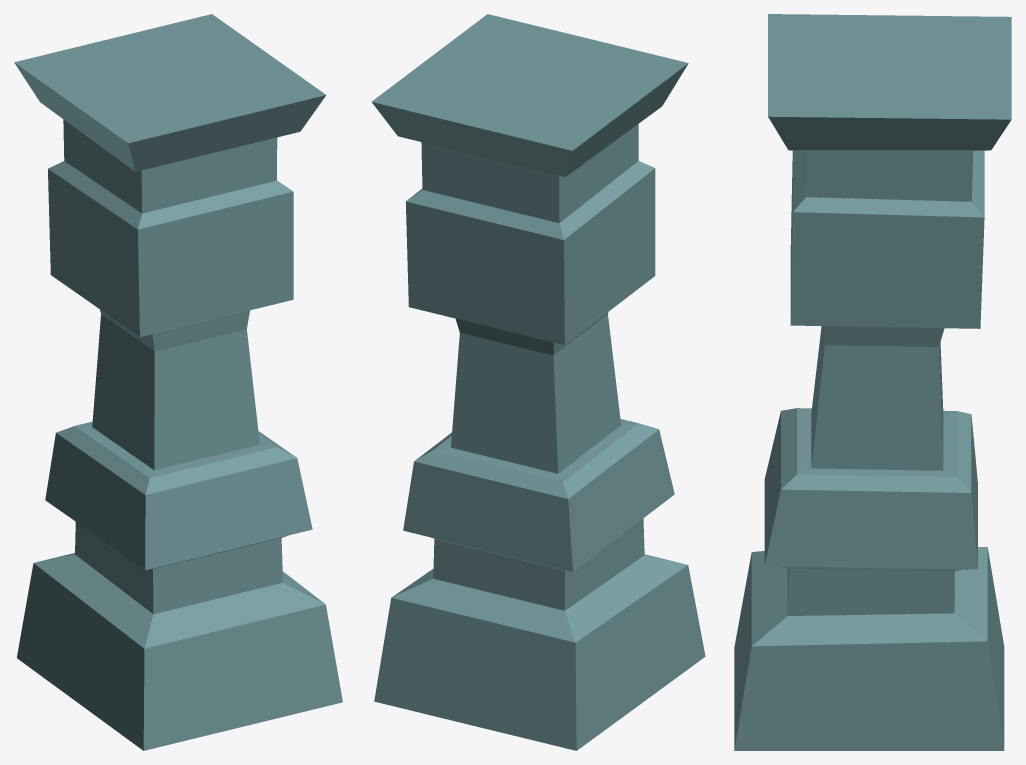
File: Cementery_Column.fbx
3 renders of one model, left to right at view 1: azimuth 30°, elevation 25°; view 2: azimuth 150°, elevation 25°; view 3: azimuth 270°, elevation 25°, orthographic. The views are drawn at different scales.
Visible parts, largest first — view 1: Column001; view 2: Column001; view 3: Column001.
Part boxes in pixels (<box>): Column001: <box>14,14,342,750</box>; Column001: <box>371,14,705,750</box>; Column001: <box>734,14,1011,750</box>.
Size of the model in its own units: 55.1 by 157 by 62.39.
